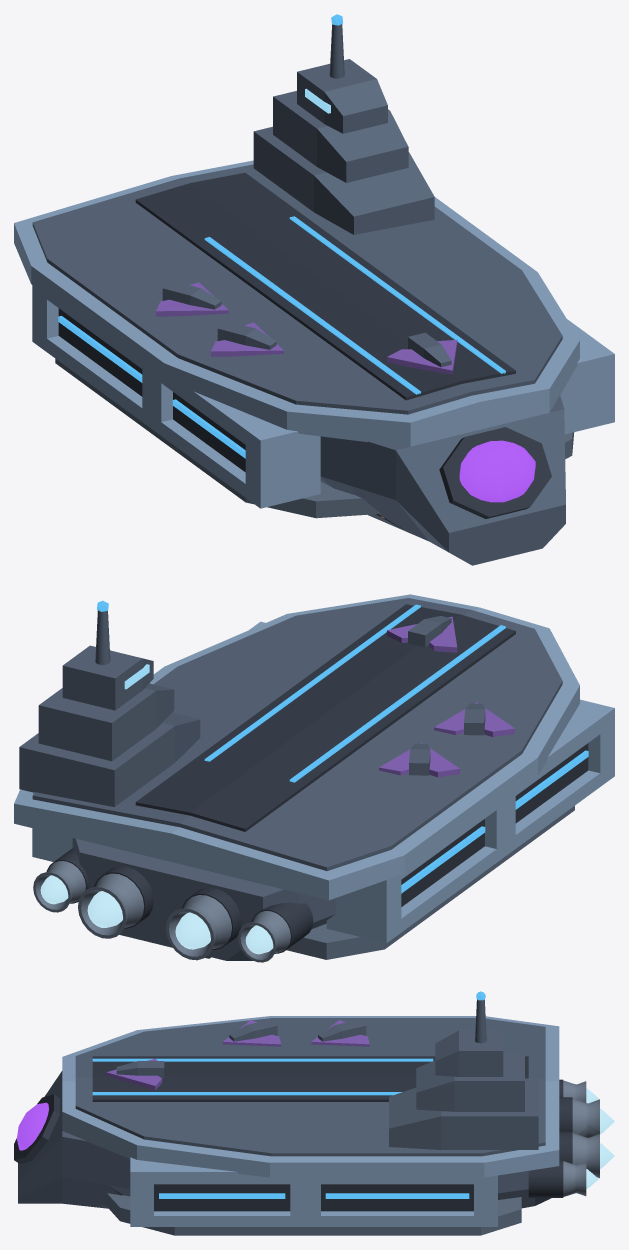
File: titan_carrier_wreck.glb
3 renders of one model, top to bottom at view 1: azimuth 30°, elevation 25°; view 2: azimuth 150°, elevation 25°; view 3: azimuth 270°, elevation 25°, orthographic. The views are drawn at different scales.
Parts seen in each view (by area): view 1: titan_carrier_wreck_02, titan_carrier_wreck_04, titan_carrier_wreck_06, titan_carrier_wreck_15, titan_carrier_wreck_13, titan_carrier_wreck_07, titan_carrier_wreck_19, titan_carrier_wreck_05, titan_carrier_wreck_17, titan_carrier_wreck_08, titan_carrier_wreck_16, titan_carrier_wreck_10 (+2 smaller); view 2: titan_carrier_wreck_00, titan_carrier_wreck_16, titan_carrier_wreck_06, titan_carrier_wreck_13, titan_carrier_wreck_01, titan_carrier_wreck_19, titan_carrier_wreck_05, titan_carrier_wreck_04, titan_carrier_wreck_08, titan_carrier_wreck_15, titan_carrier_wreck_03, titan_carrier_wreck_07 (+3 smaller); view 3: titan_carrier_wreck_10, titan_carrier_wreck_09, titan_carrier_wreck_07, titan_carrier_wreck_19, titan_carrier_wreck_17, titan_carrier_wreck_08, titan_carrier_wreck_01, titan_carrier_wreck_06, titan_carrier_wreck_03, titan_carrier_wreck_15, titan_carrier_wreck_05, titan_carrier_wreck_02 (+4 smaller).
Boxes of the visible parts, bbox=[...] form: titan_carrier_wreck_02: bbox=[351, 371, 514, 564]; titan_carrier_wreck_04: bbox=[205, 351, 375, 518]; titan_carrier_wreck_06: bbox=[98, 282, 296, 468]; titan_carrier_wreck_15: bbox=[271, 110, 434, 261]; titan_carrier_wreck_13: bbox=[25, 228, 162, 425]; titan_carrier_wreck_07: bbox=[457, 285, 614, 458]; titan_carrier_wreck_19: bbox=[232, 256, 468, 345]; titan_carrier_wreck_05: bbox=[123, 208, 317, 296]; titan_carrier_wreck_17: bbox=[472, 371, 565, 565]; titan_carrier_wreck_08: bbox=[296, 313, 508, 387]; titan_carrier_wreck_16: bbox=[99, 101, 292, 226]; titan_carrier_wreck_10: bbox=[383, 206, 546, 294]; titan_carrier_wreck_00: bbox=[166, 826, 380, 962]; titan_carrier_wreck_16: bbox=[84, 728, 295, 928]; titan_carrier_wreck_06: bbox=[388, 701, 565, 885]; titan_carrier_wreck_13: bbox=[300, 781, 478, 954]; titan_carrier_wreck_01: bbox=[14, 756, 174, 947]; titan_carrier_wreck_19: bbox=[240, 660, 455, 751]; titan_carrier_wreck_05: bbox=[197, 730, 414, 826]; titan_carrier_wreck_04: bbox=[467, 649, 614, 824]; titan_carrier_wreck_08: bbox=[310, 604, 503, 703]; titan_carrier_wreck_15: bbox=[127, 660, 275, 778]; titan_carrier_wreck_03: bbox=[38, 600, 150, 741]; titan_carrier_wreck_07: bbox=[193, 598, 410, 667]; titan_carrier_wreck_10: bbox=[219, 1109, 406, 1235]; titan_carrier_wreck_09: bbox=[390, 1085, 557, 1235]; titan_carrier_wreck_07: bbox=[77, 1097, 246, 1235]; titan_carrier_wreck_19: bbox=[218, 1050, 356, 1123]; titan_carrier_wreck_17: bbox=[14, 1095, 122, 1217]; titan_carrier_wreck_08: bbox=[93, 1048, 228, 1109]; titan_carrier_wreck_01: bbox=[498, 1090, 614, 1227]; titan_carrier_wreck_06: bbox=[209, 1016, 376, 1050]; titan_carrier_wreck_03: bbox=[435, 991, 524, 1088]; titan_carrier_wreck_15: bbox=[333, 1041, 455, 1138]; titan_carrier_wreck_05: bbox=[336, 1025, 438, 1088]; titan_carrier_wreck_02: bbox=[14, 1045, 125, 1145].
Size of the model in its own units: 5.1 by 4.25 by 8.83.
Materials: 13 (1 with a texture image).
